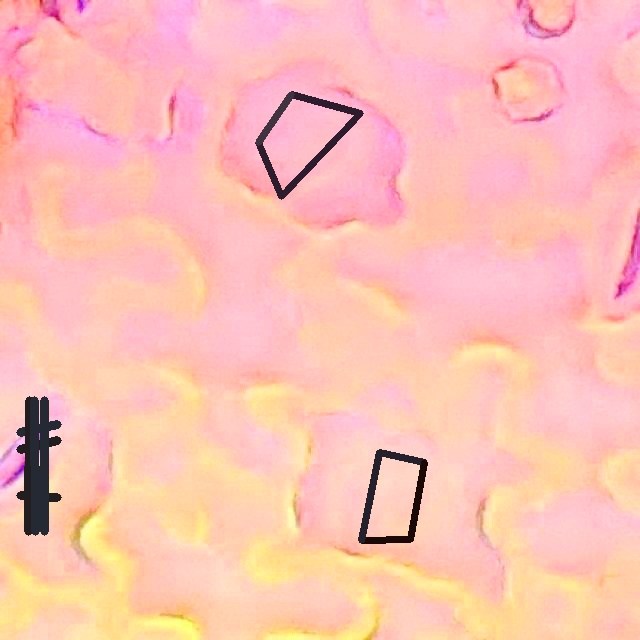close: (256, 91, 363, 198), (358, 449, 427, 542)
open: (16, 396, 61, 535)
